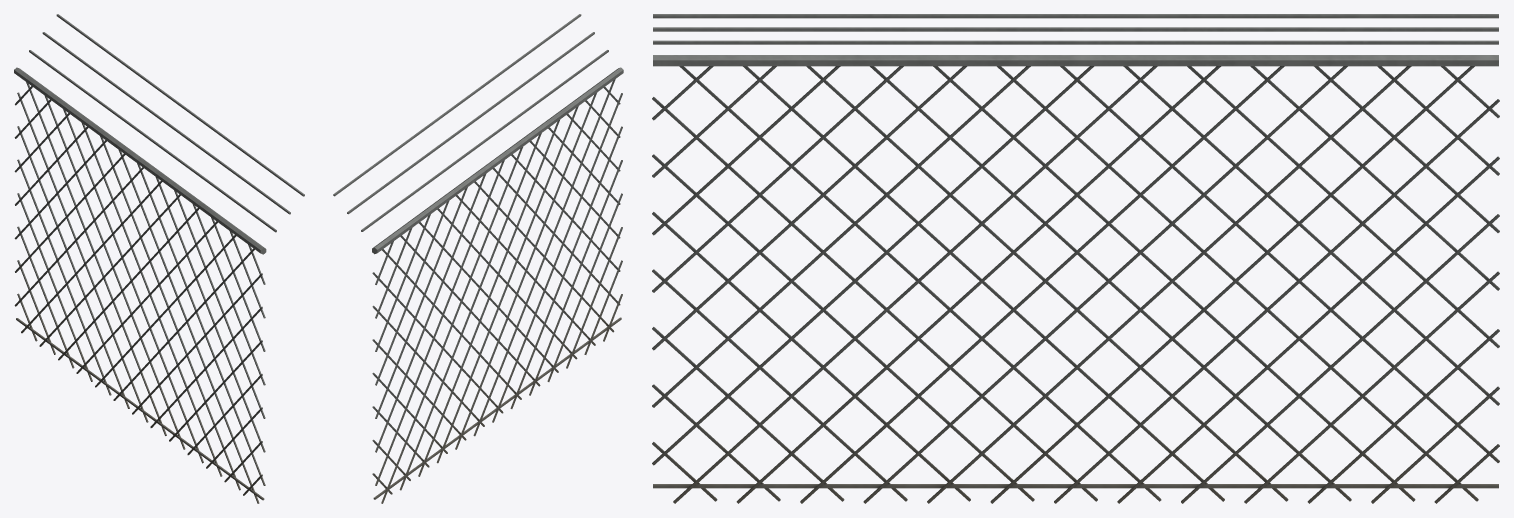
Rendered from cycl-segment.glb.
3 views of the same model, side by side, from view 1: azimuth 30°, elevation 25°; view 2: azimuth 150°, elevation 25°; view 3: azimuth 270°, elevation 25° (orthographic). The views are drawn at different scales.
Parts seen in each view (by area): view 1: hull; view 2: hull; view 3: hull.
Part boxes in pixels (box(x1,y1,x2,y2)): hull: box(14, 14, 304, 503); hull: box(333, 14, 623, 503); hull: box(652, 14, 1499, 503).
Size of the model in its own units: 0.4135 by 2.72 by 4.01.
1 material, 1 textured.
